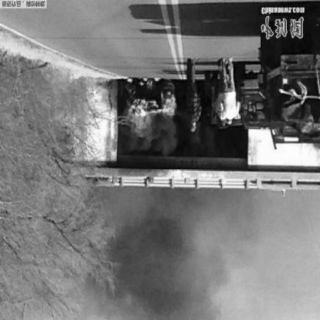Smoke: (150, 122, 174, 148)
